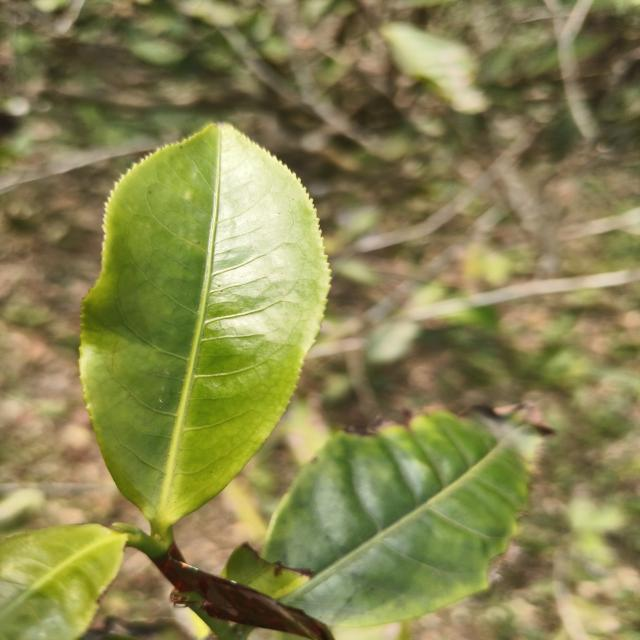Leaf: (80, 125, 329, 546), (263, 402, 554, 627), (0, 524, 125, 640), (380, 22, 487, 113)
